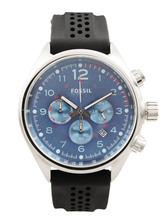watch: (24, 11, 161, 210)
